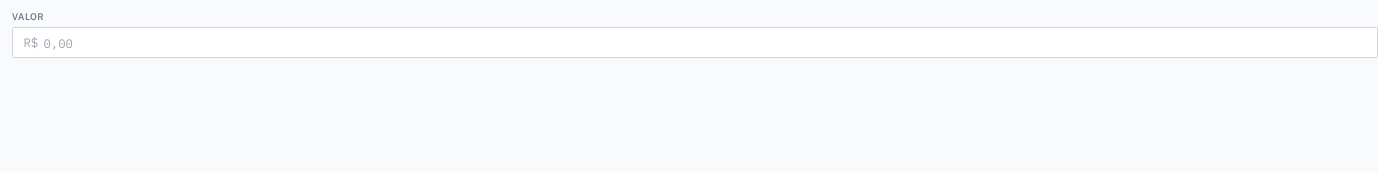
Test case: MoneyInput › deve formatar milhares e entregar o valor com ponto decimal
Type "123456" into the field labelled "Valor" at (705, 43), box [44,28,1366,57]
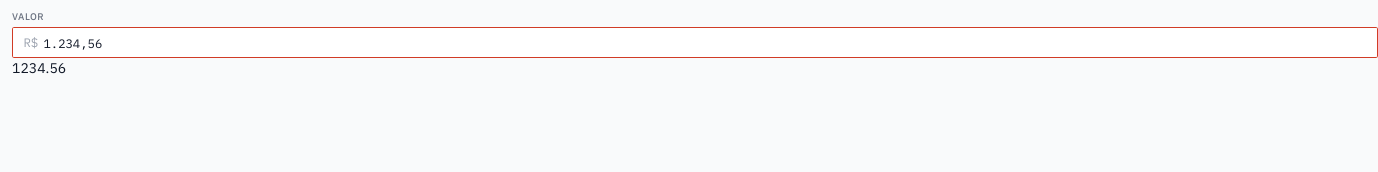
Now the field labelled "Valor" holds "1.234,56", box [44,28,1366,57]
